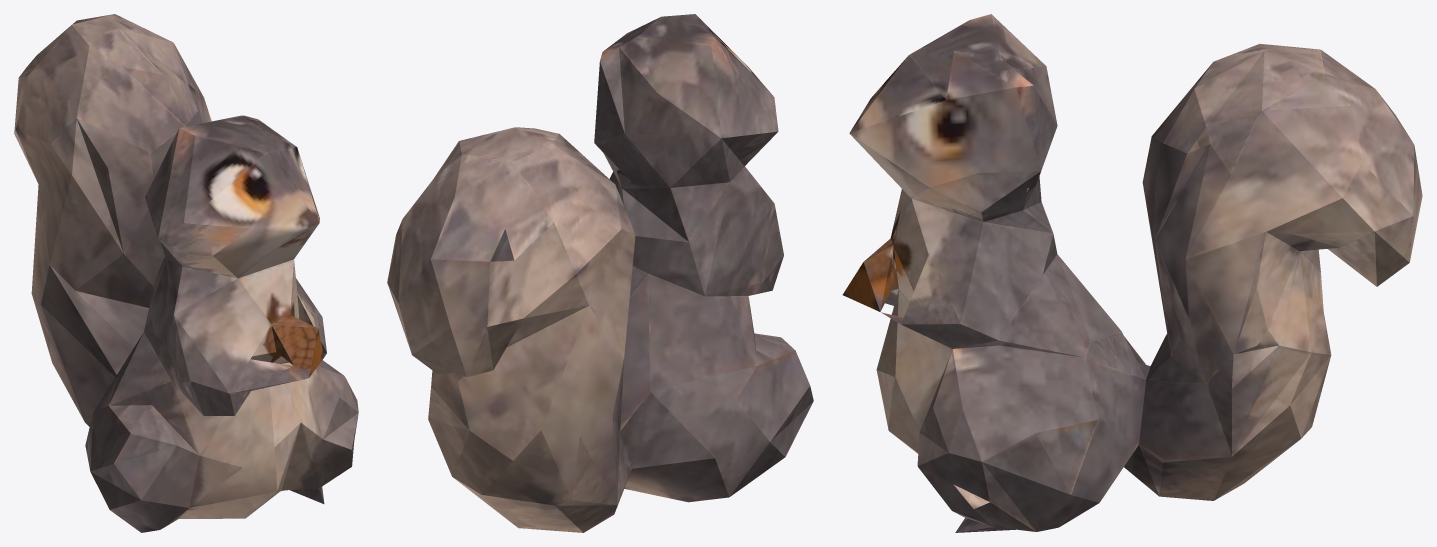
Rendered from squirrel-lod.glb.
The picture shows the model from 3 angles, left to right: view 1: azimuth 30°, elevation 25°; view 2: azimuth 150°, elevation 25°; view 3: azimuth 270°, elevation 25°; orthographic projection. The views are drawn at different scales.
Parts seen in each view (by area): view 1: output_unwrapped; view 2: output_unwrapped; view 3: output_unwrapped.
Boxes of the visible parts, left/top/right/bottom form: output_unwrapped: left=14, top=14, right=358, bottom=532; output_unwrapped: left=387, top=14, right=813, bottom=532; output_unwrapped: left=842, top=14, right=1422, bottom=532.
Bounding box in the file's own units: 0.1621 × 0.25 × 0.2856.
Materials: 1 (1 with a texture image).
